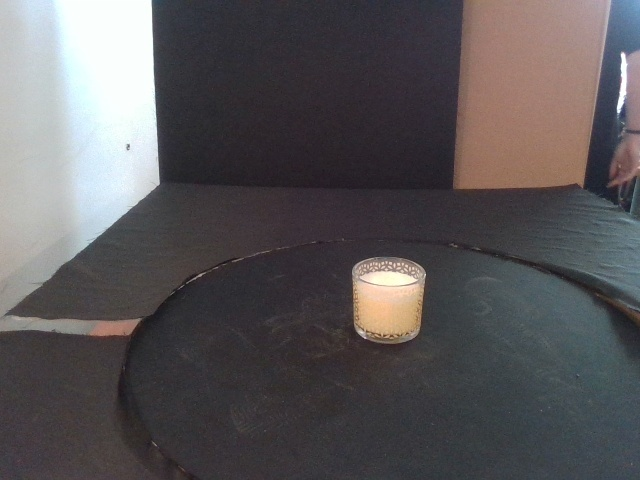candle: (351, 255, 426, 345)
